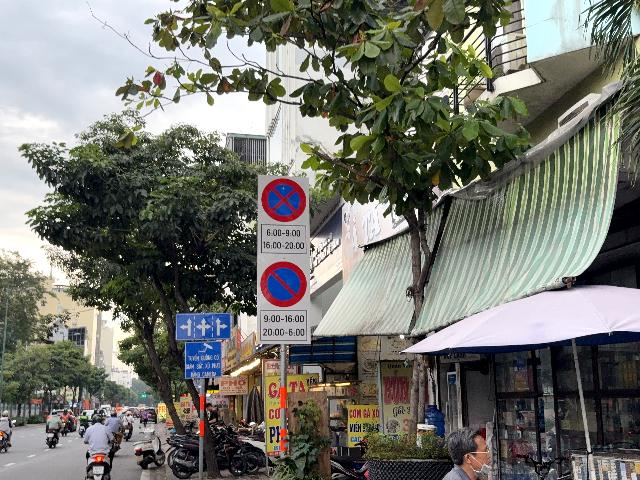cam-do-xe: (262, 261, 308, 307)
cam-dung-va-do-xe: (261, 177, 306, 222)
